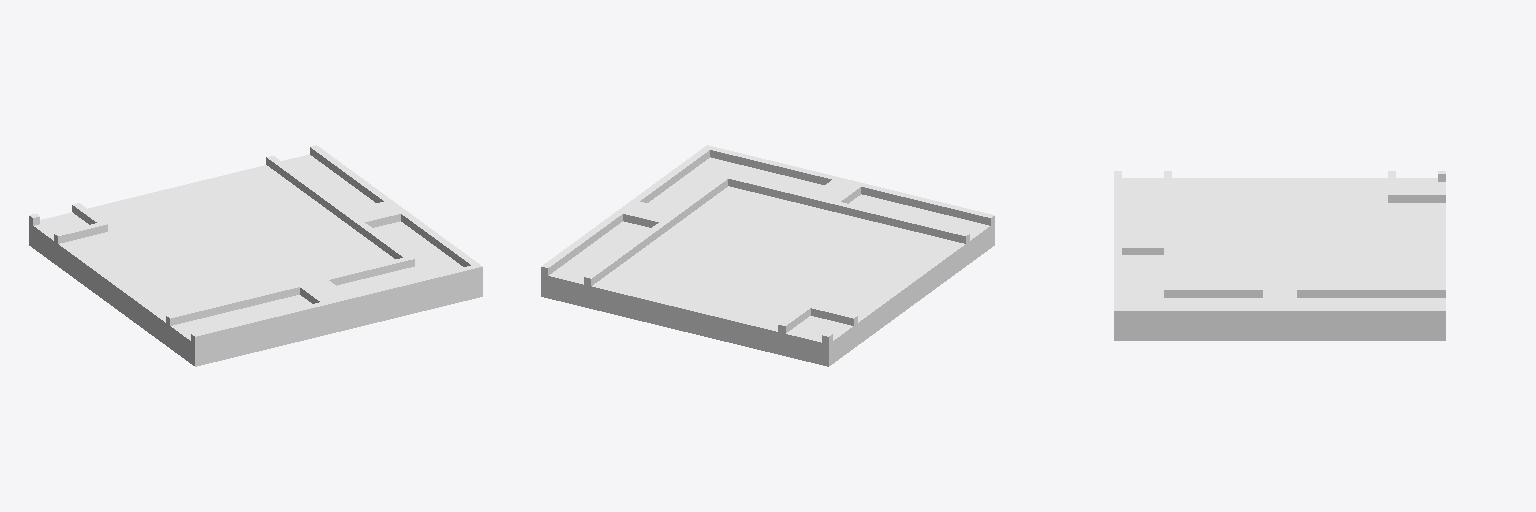
Rendered from RoadL4.vox.obj.
3 renders of one model, left to right at view 1: azimuth 30°, elevation 25°; view 2: azimuth 150°, elevation 25°; view 3: azimuth 270°, elevation 25°, orthographic.
Parts seen in each view (by area): view 1: object 1; view 2: object 1; view 3: object 1.
Part boxes in pixels (x1,y1,x2,y2): object 1: (29, 145, 482, 366); object 1: (541, 145, 994, 366); object 1: (1114, 171, 1445, 340).
Bounding box in the file's own units: 4 × 0.4 × 4.